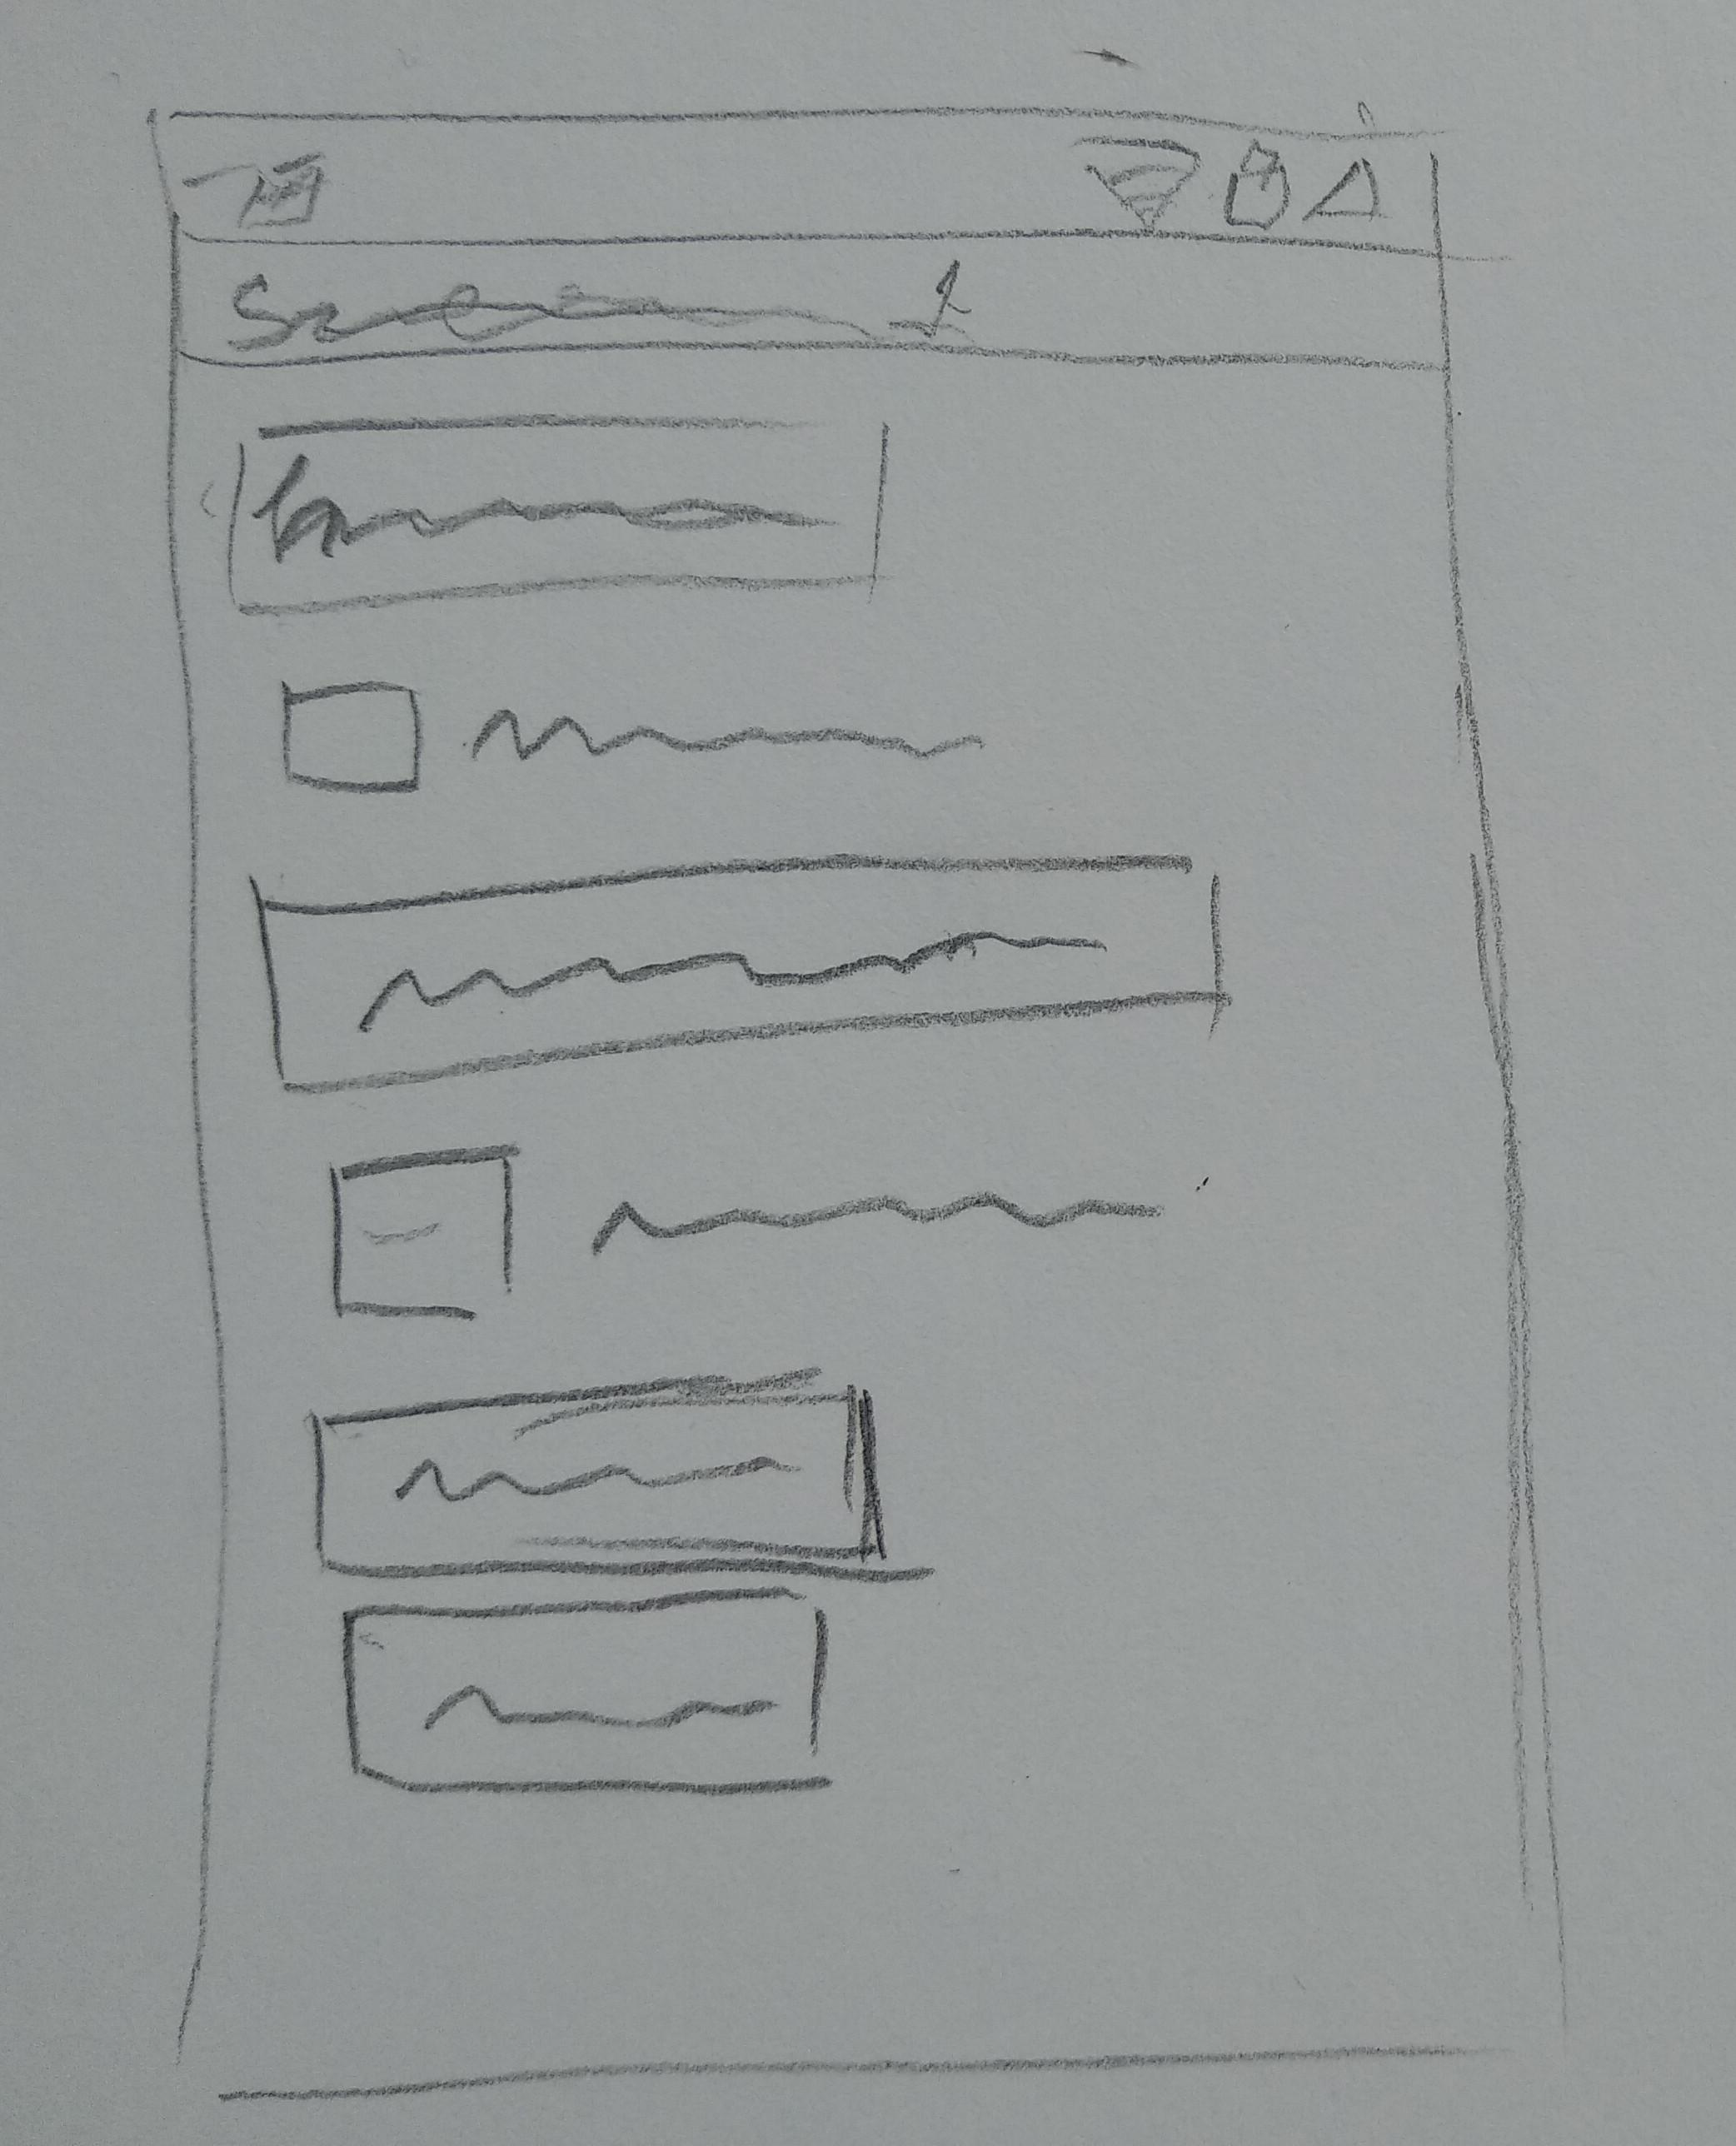Button: (266, 851, 1228, 1093), (223, 411, 898, 618), (306, 1375, 886, 1577), (340, 1588, 834, 1799)
CheckBox: (328, 1129, 1178, 1317), (269, 675, 997, 799)
Label: (225, 252, 974, 351)
Screen: (152, 103, 1555, 2102)
